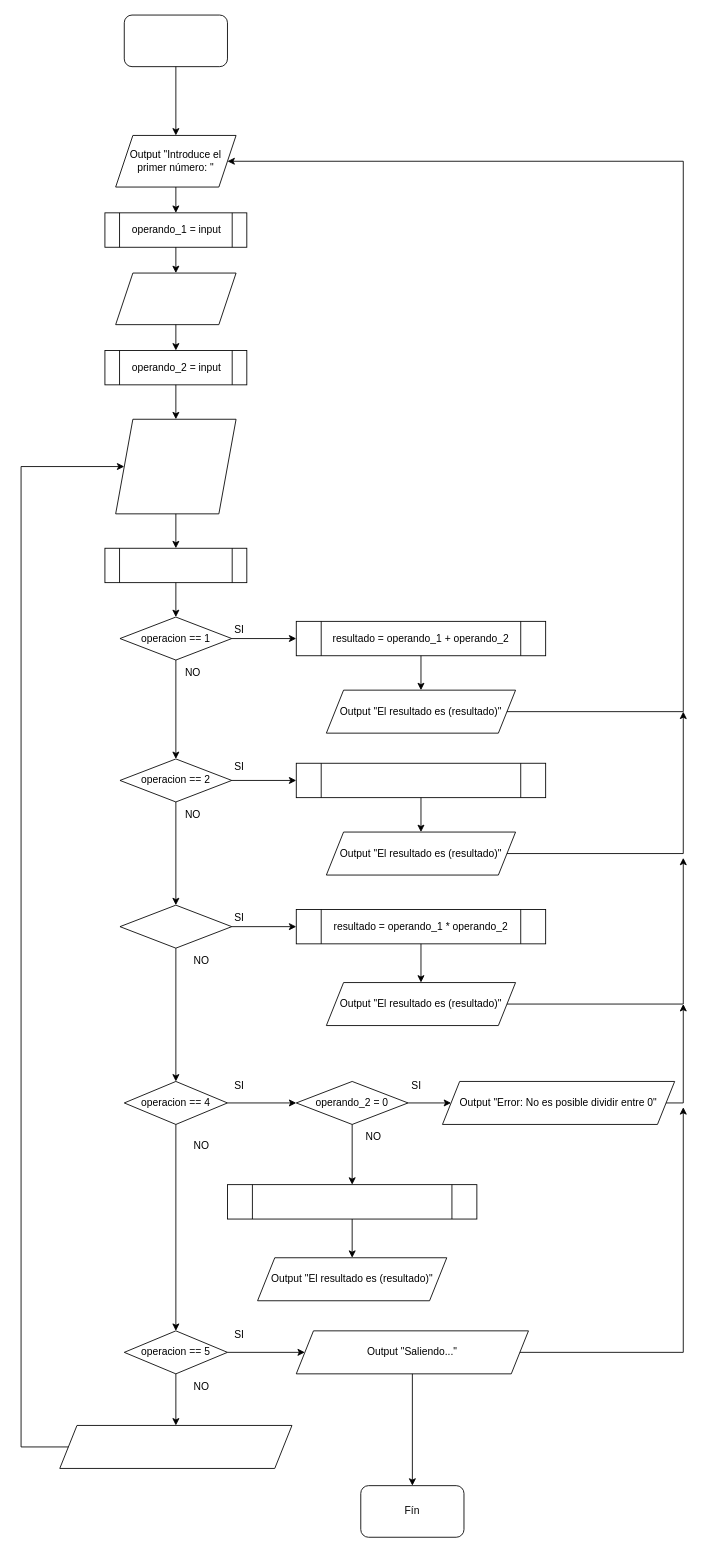
Some shapes in this 705 by 1552 pixel diagram are drawn without their labels. Here are the shapes that lost their labels. From the top down, the centre of each, then its label:
pixel 175 40: inicio
pixel 175 298: Output "Introduce el segundo número: "
pixel 175 466: Output "Introduce: 1 - sumar 2- restar 3 - multiplicar 4 - dividir 5 - Salir"
pixel 175 565: operacion = input
pixel 420 780: resultado = operando_1 - operando_2
pixel 175 926: operacion == 3
pixel 352 1201: resultado = operando_1 / operando_2
pixel 175 1446: Output "Operación no válida."
